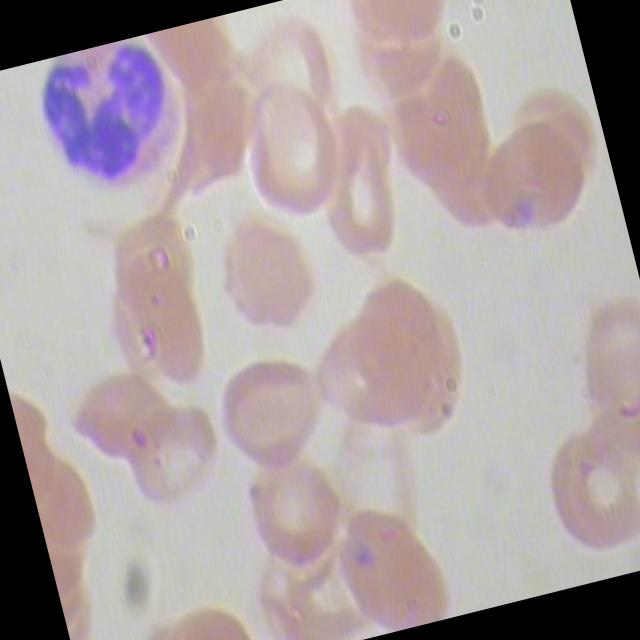RBC: (298, 97, 429, 281), (332, 264, 474, 433), (226, 75, 362, 231), (207, 340, 346, 490), (324, 495, 462, 640), (466, 116, 602, 260), (232, 442, 366, 586), (207, 204, 336, 349), (60, 362, 193, 484), (110, 398, 237, 520), (537, 422, 640, 567)
WBC: (23, 29, 202, 208)
